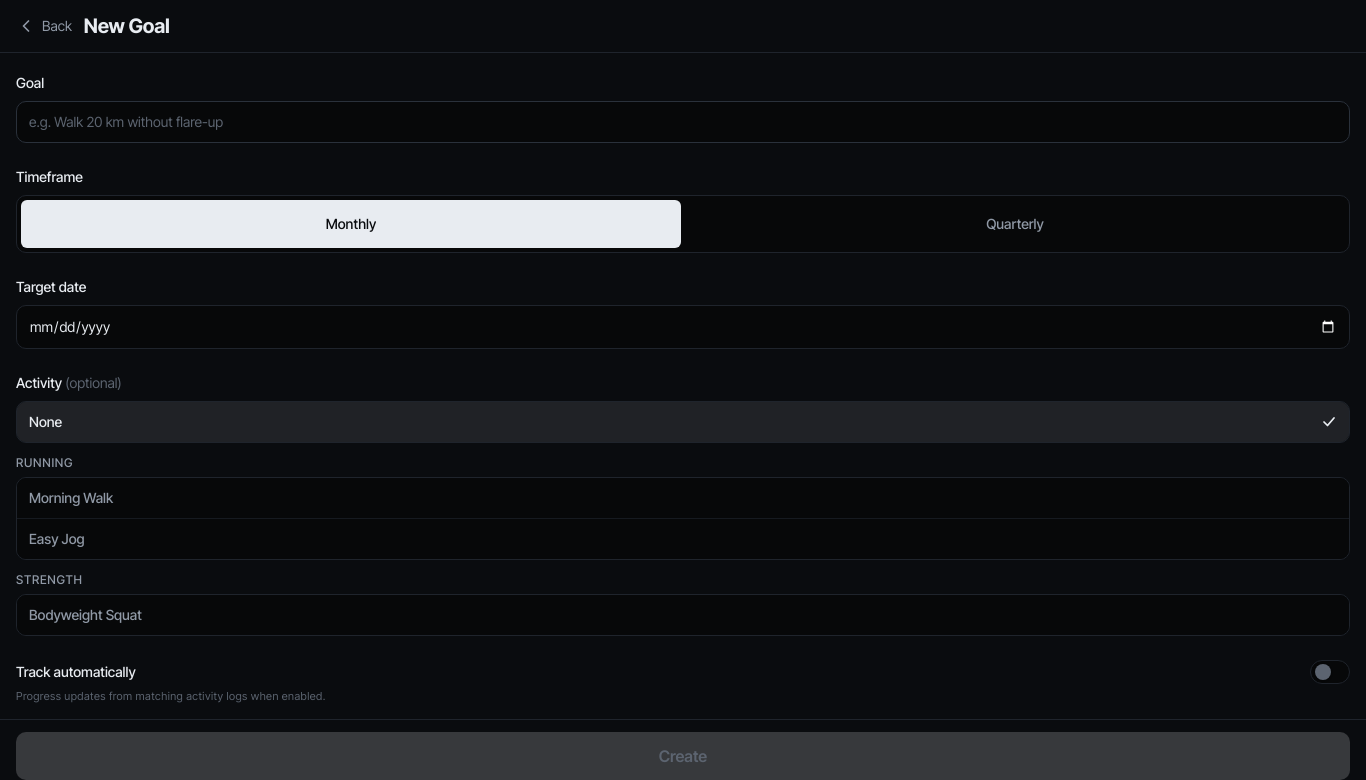
GoalEditorScreen — S25.F1 Goal editor UX › shows inline validation when auto-track is on but target is missing
In the field labelled "Goal": coordinates (683, 122) [16, 101, 1350, 143], type "Auto-tracked goal"
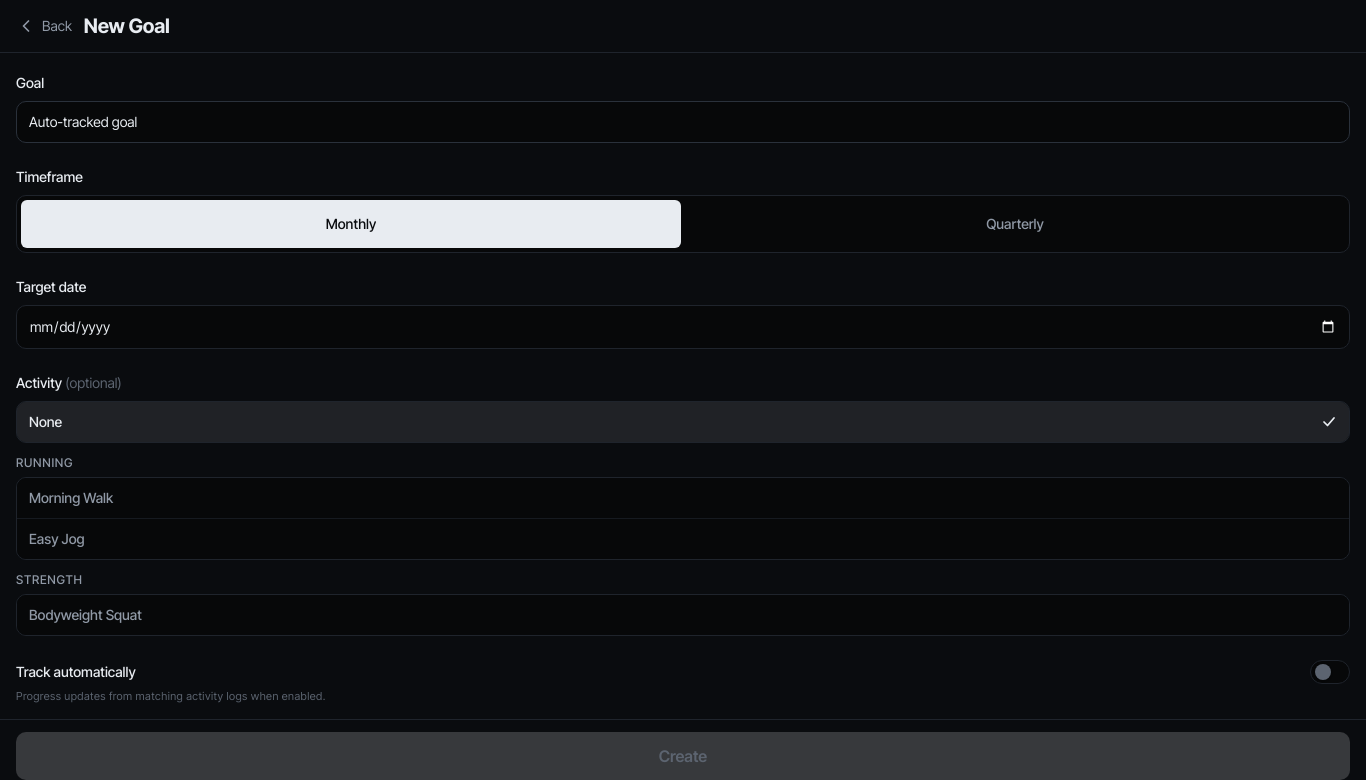
In the date field labelled "Target date": coordinates (683, 327) [16, 305, 1350, 349], type "2026-06-30"
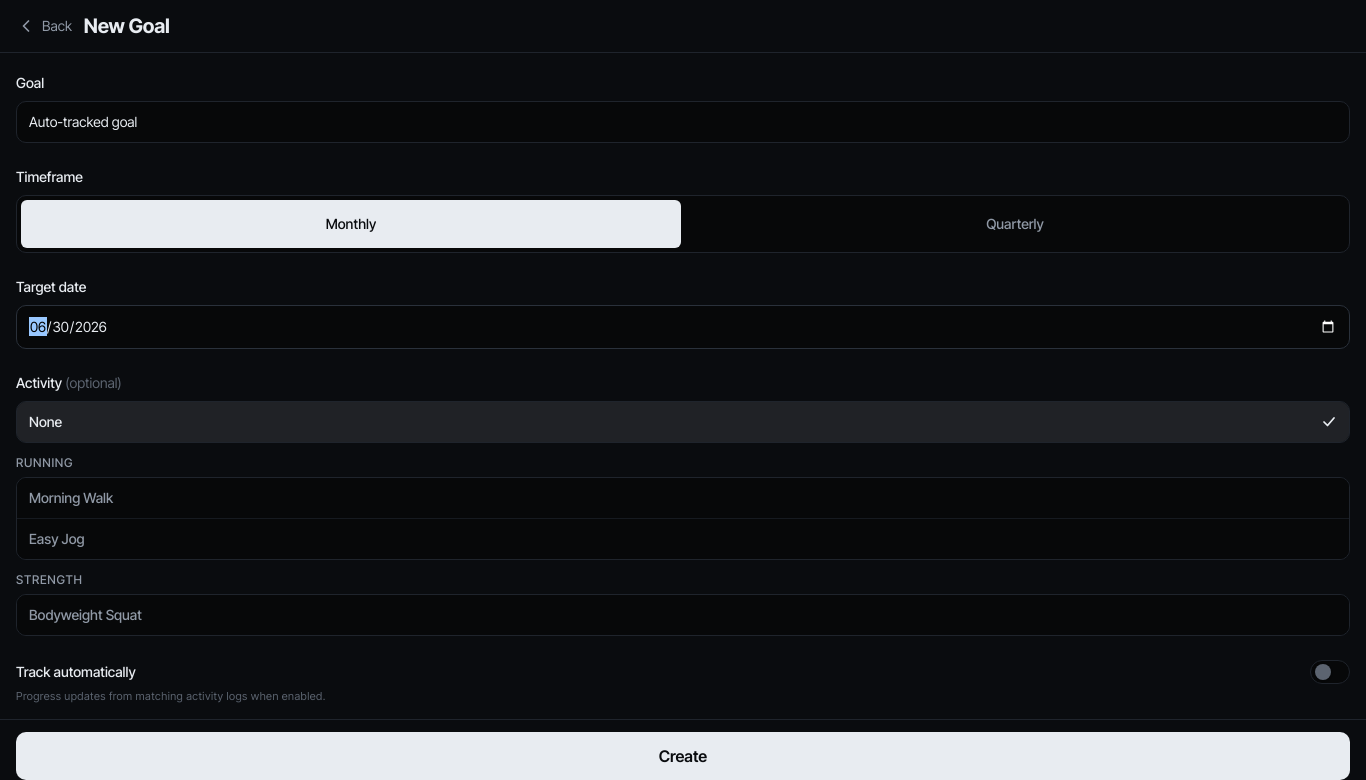
Click the switch named "track automatically": coordinates (1330, 672) [1310, 660, 1350, 684]
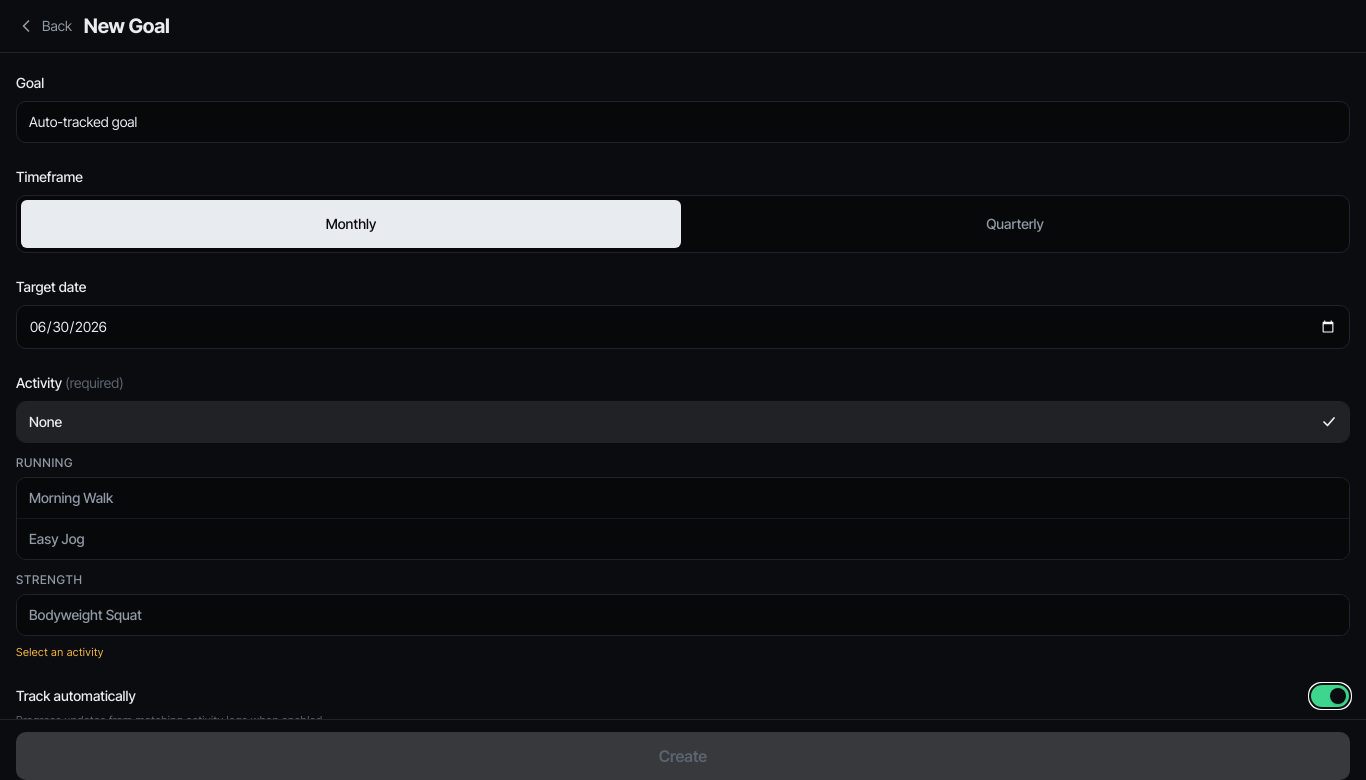
Click the radio button labelled "Morning Walk": coordinates (71, 498) [17, 478, 1349, 518]
(page scrolled)
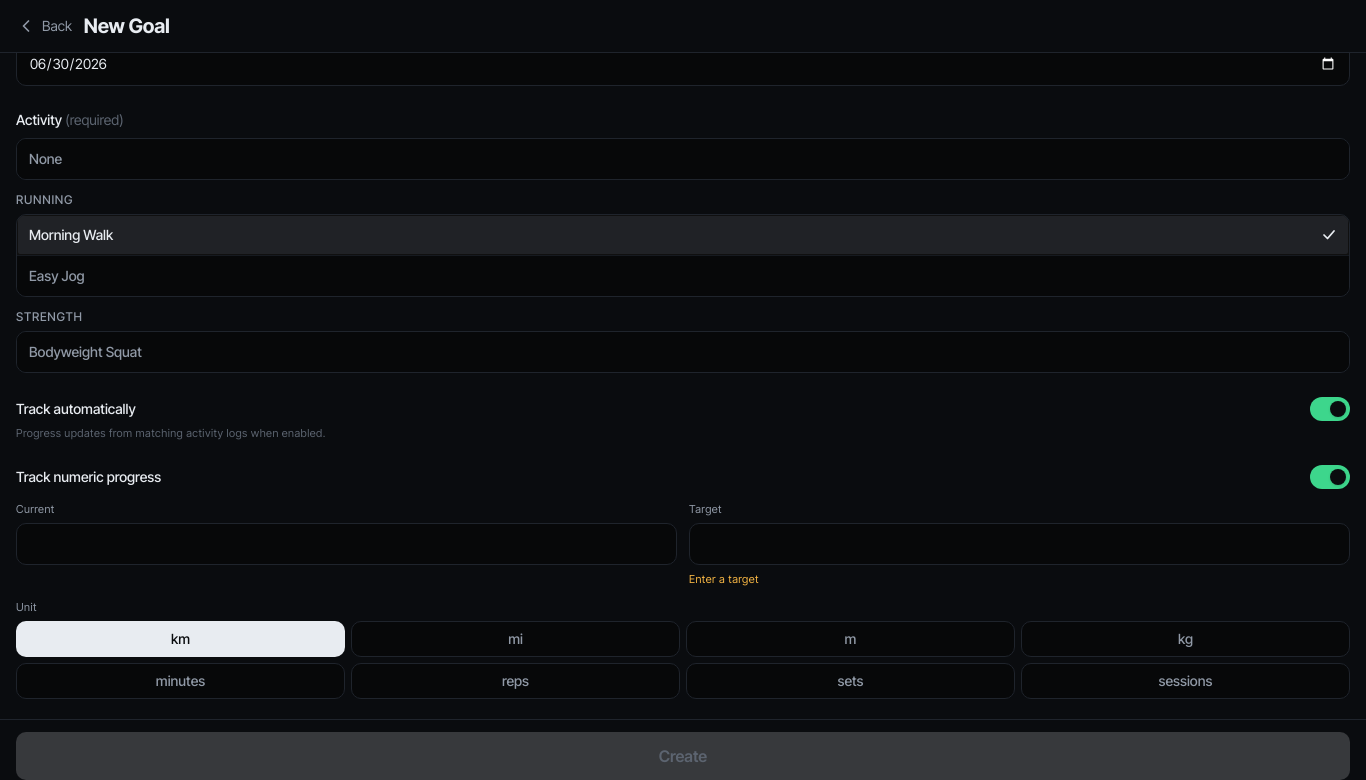
expect the button "Create" is disabled: met, box [16, 732, 1350, 779]
expect the text "Enter a target" is shown: met, box [689, 572, 759, 586]
